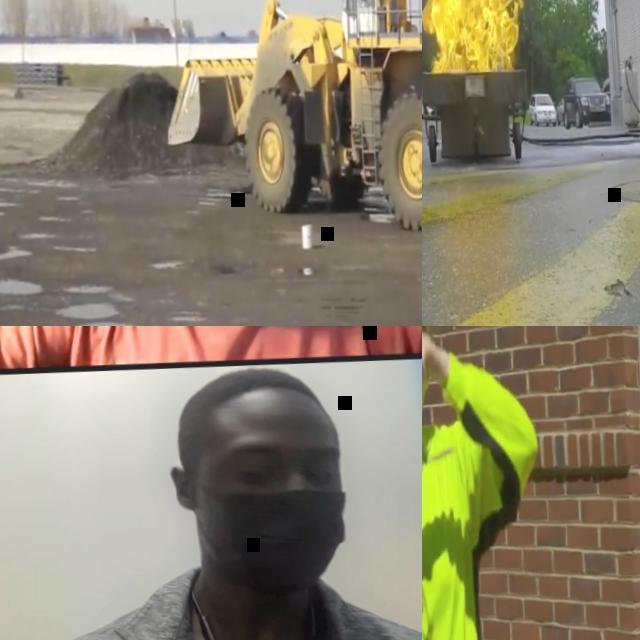Robbery: (115, 355, 398, 640), (422, 329, 544, 640)
